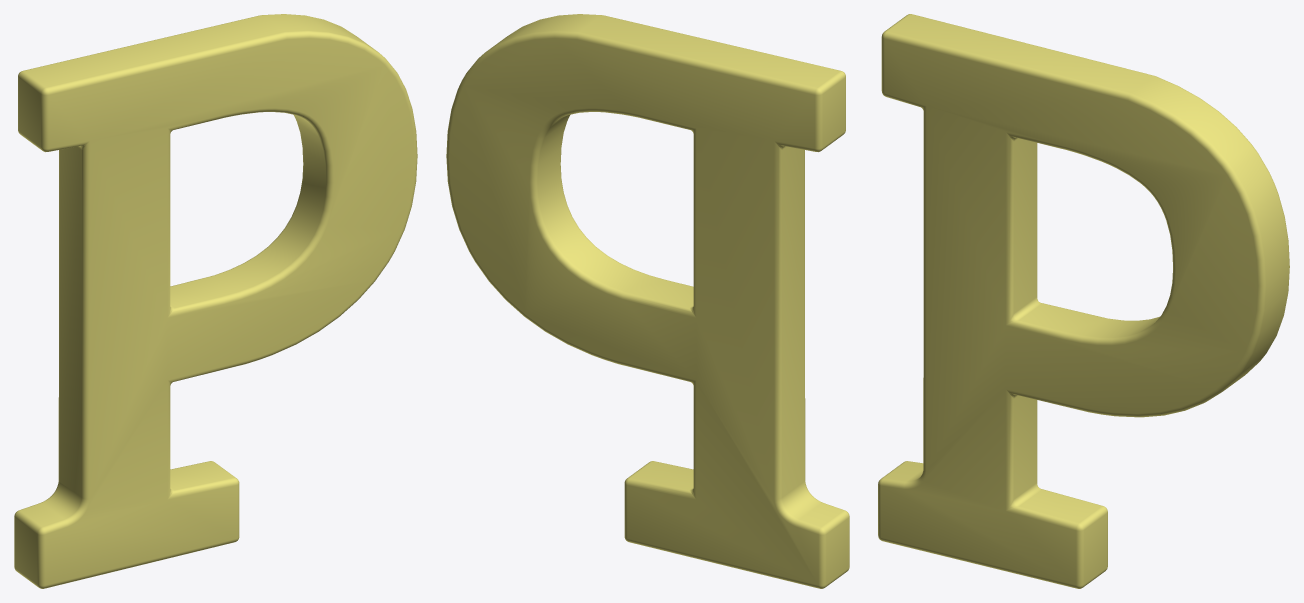
3 views of the same model, side by side, from view 1: azimuth 30°, elevation 25°; view 2: azimuth 150°, elevation 25°; view 3: azimuth 330°, elevation 25° (orthographic). The views are drawn at different scales.
Visible parts, largest first — view 1: 텍스트; view 2: 텍스트; view 3: 텍스트.
Boxes of the visible parts, bbox=[...] form: 텍스트: bbox=[14, 14, 417, 588]; 텍스트: bbox=[446, 14, 849, 588]; 텍스트: bbox=[878, 14, 1289, 588].
Size of the model in its own units: 0.3888 by 0.4896 by 0.05.
